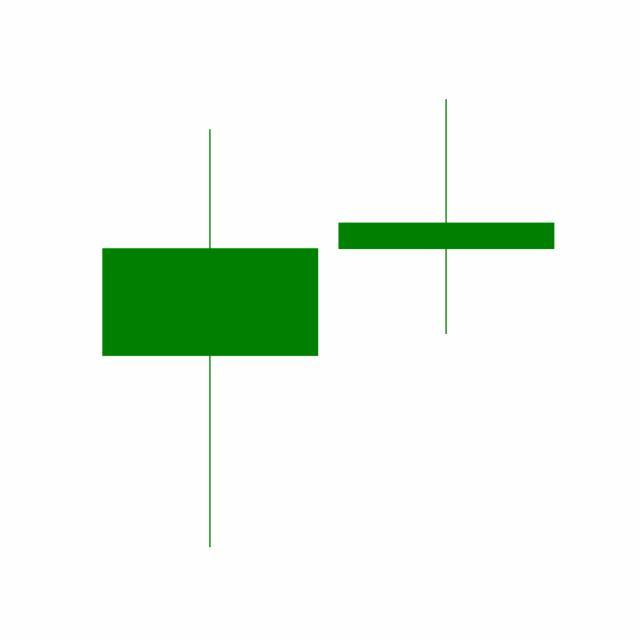Spinning Top: (328, 97, 566, 338)
